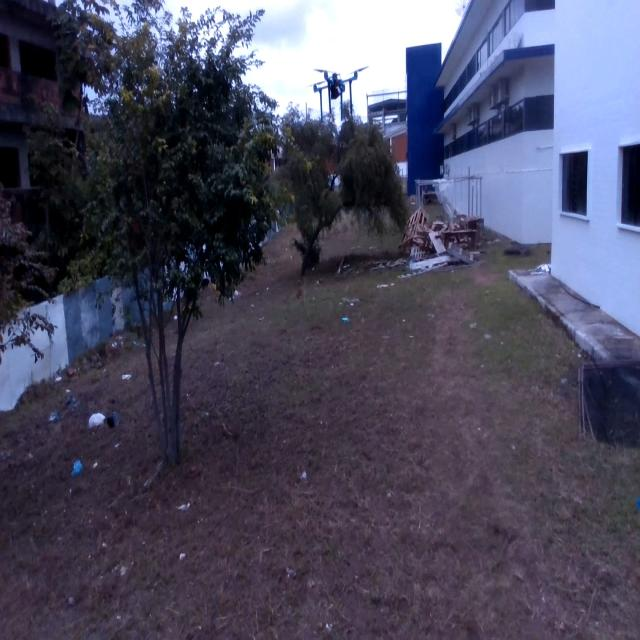-uav-: (304, 51, 374, 142)
